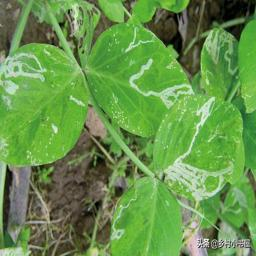liriomyza: (156, 96, 235, 204), (127, 58, 195, 110), (1, 51, 47, 110), (204, 27, 241, 76), (110, 185, 138, 241), (122, 27, 161, 54), (220, 187, 247, 215), (24, 149, 43, 166), (68, 95, 86, 107), (202, 68, 214, 85), (1, 136, 10, 158), (49, 122, 59, 135)
